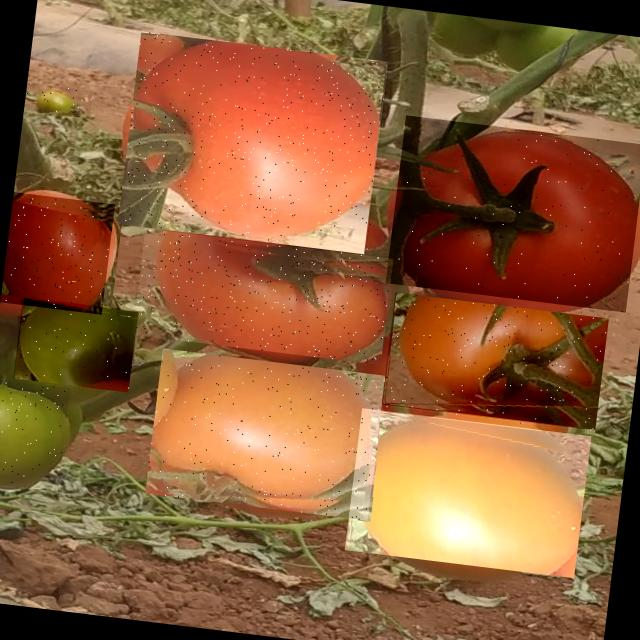Ripe Tomato: (118, 31, 392, 254), (385, 115, 640, 312), (344, 408, 591, 578), (144, 348, 384, 520), (132, 228, 393, 365), (381, 292, 608, 433), (0, 191, 114, 314)
Unripe Tomato: (12, 296, 138, 392), (0, 378, 70, 491), (23, 83, 92, 119)
